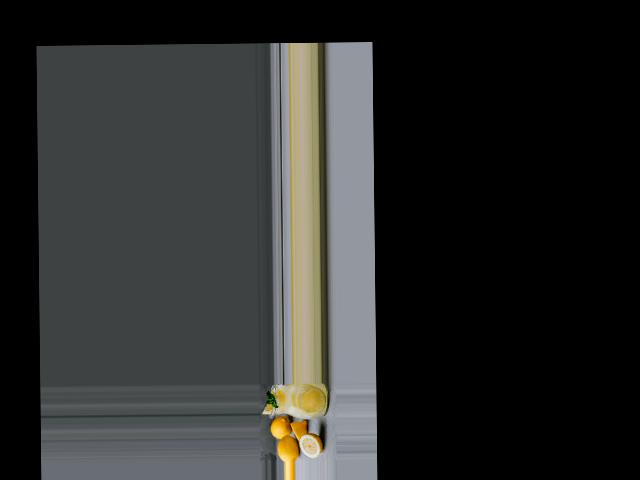lemon: (279, 431, 298, 461)
